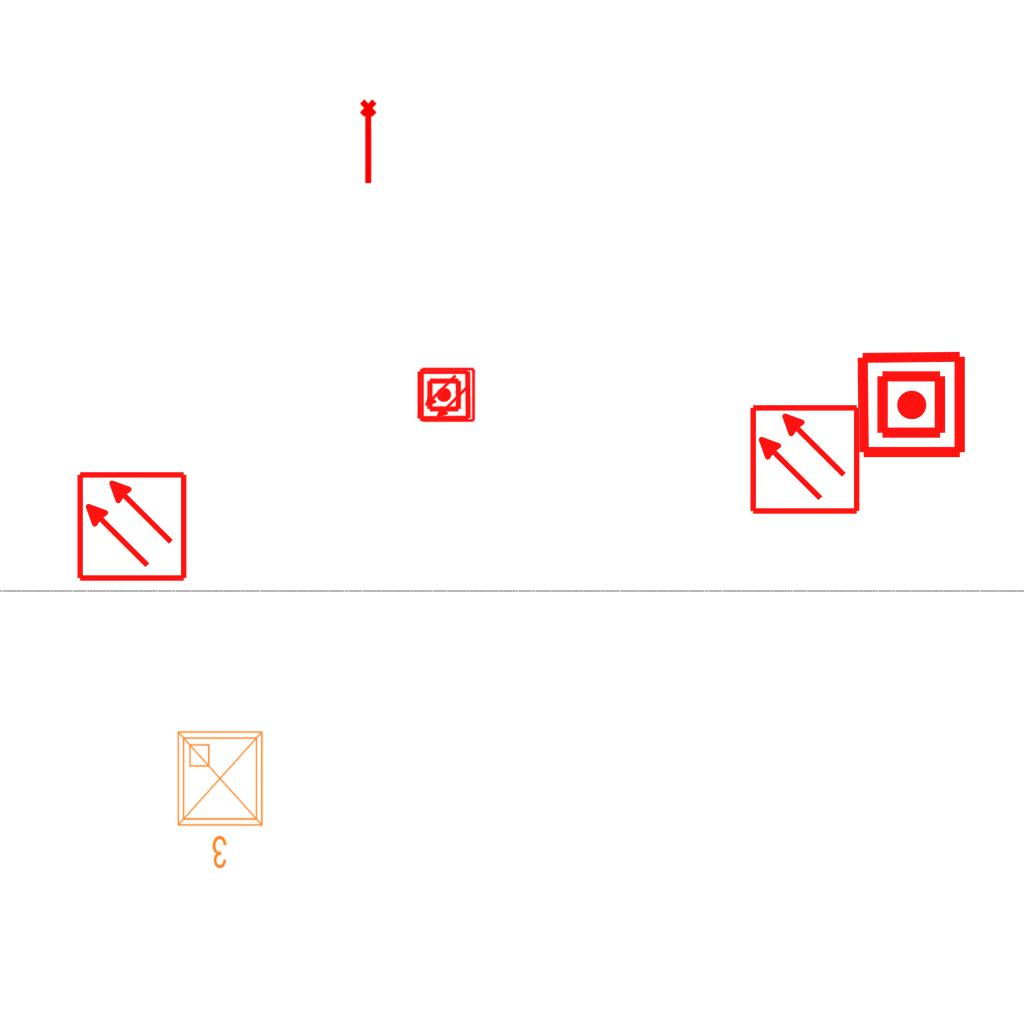ASR_Ansaugoeffnung: (358, 98, 381, 186)
Einbaudownlights_LED_Konferenzraeume: (170, 724, 274, 874)
NAM-Nichtautomatischer_Melder: (855, 348, 968, 461), (416, 367, 472, 423)
RMO_Rauchmelder_optischer: (748, 403, 861, 516), (75, 470, 188, 583), (420, 367, 476, 423)
